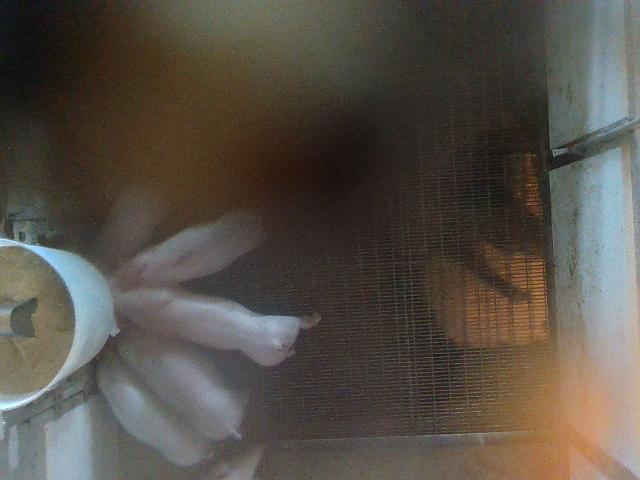pig-1: (118, 210, 266, 289)
